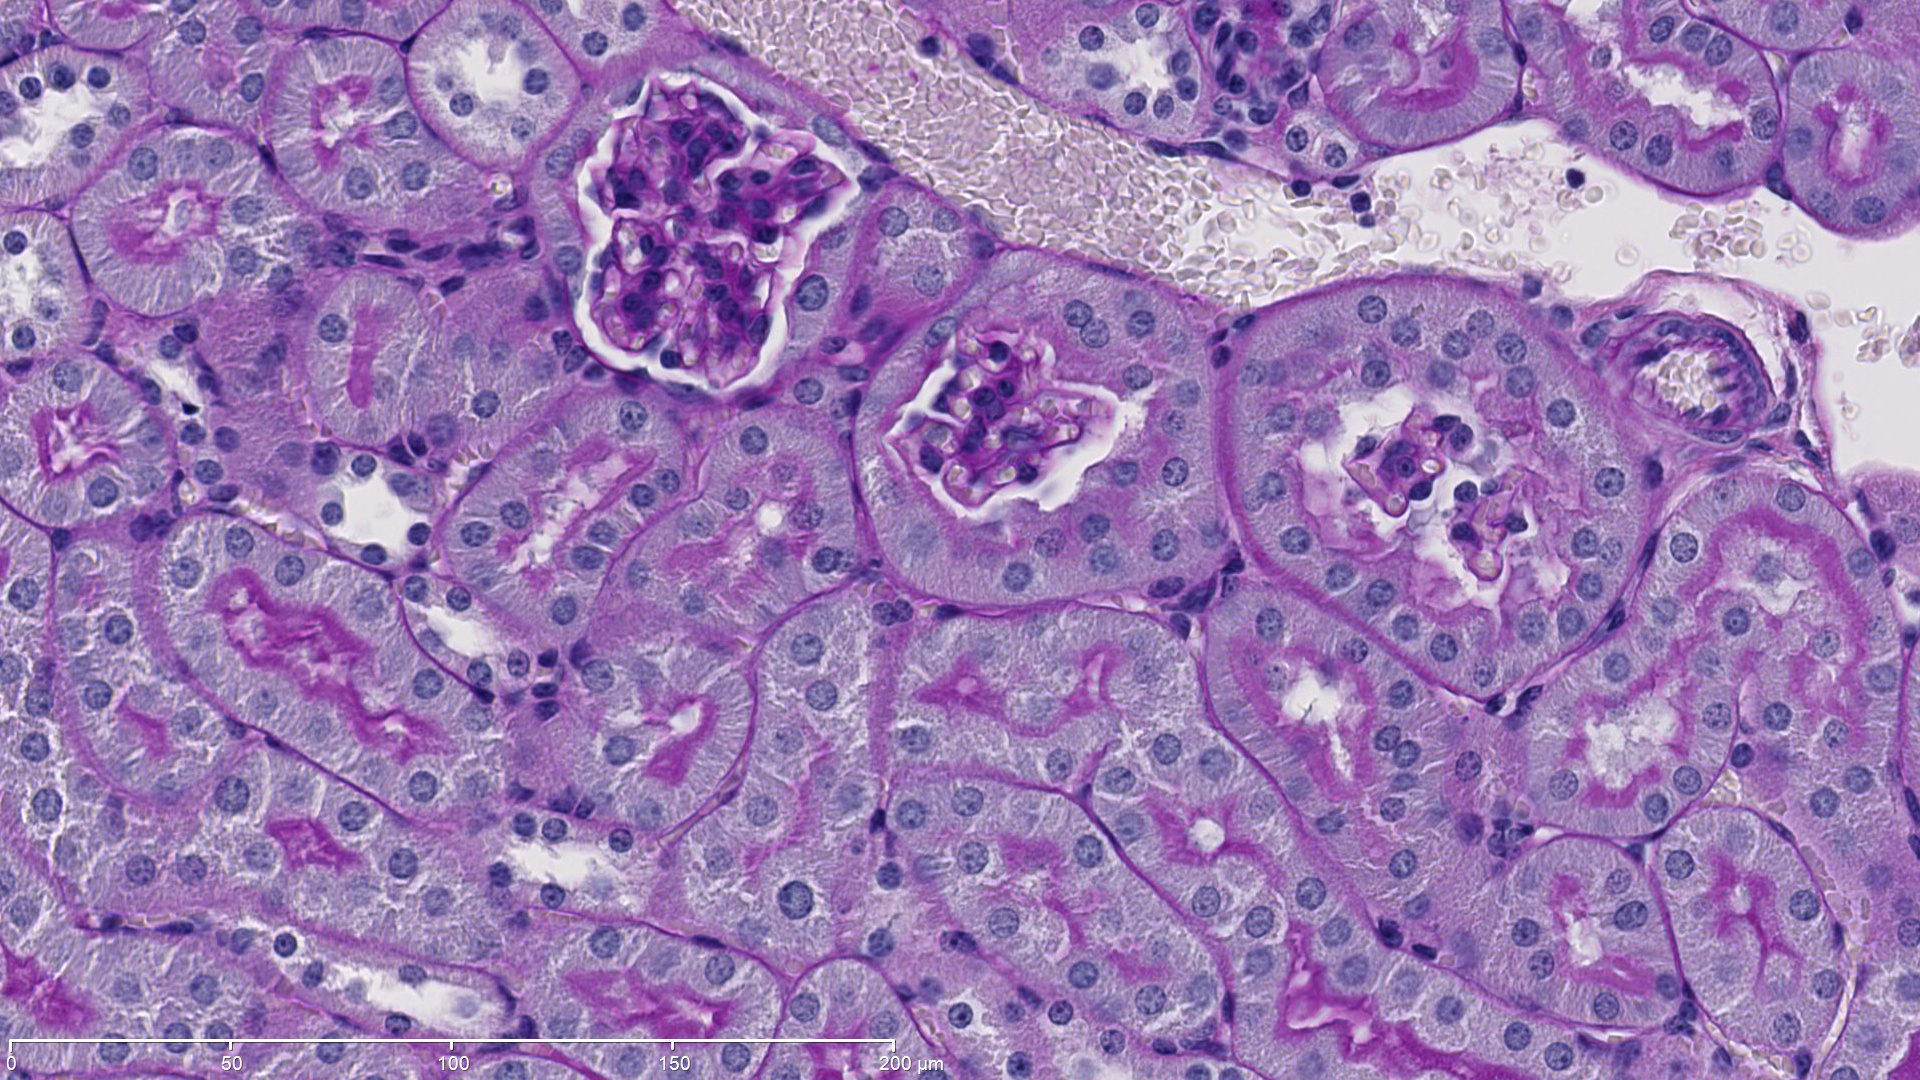Glomeruli: (562, 63, 857, 401), (891, 319, 1134, 527)
